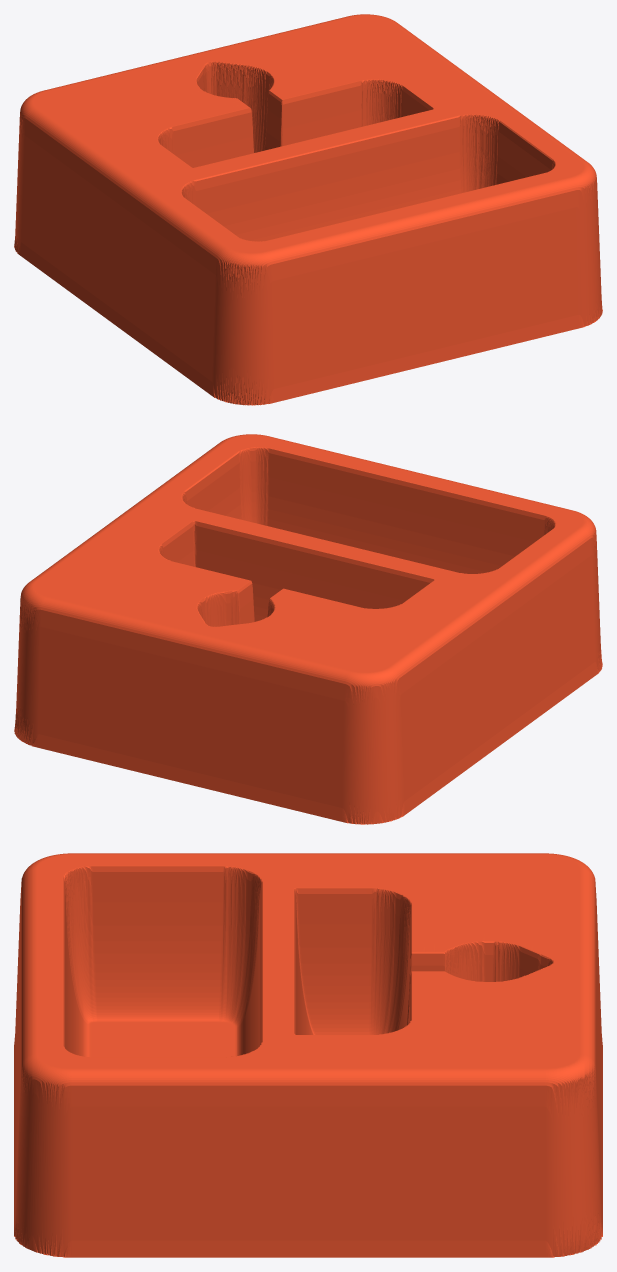
The model's file is mold.glb.
3 renders of one model, top to bottom at view 1: azimuth 30°, elevation 25°; view 2: azimuth 150°, elevation 25°; view 3: azimuth 270°, elevation 25°, orthographic. The views are drawn at different scales.
Visible parts, largest first — view 1: geometry_0; view 2: geometry_0; view 3: geometry_0.
Part boxes in pixels (<box>): geometry_0: <box>14,14,602,405</box>; geometry_0: <box>14,434,602,824</box>; geometry_0: <box>14,853,602,1257</box>.
Size of the model in its own units: 0.0866 by 0.031 by 0.0924.
